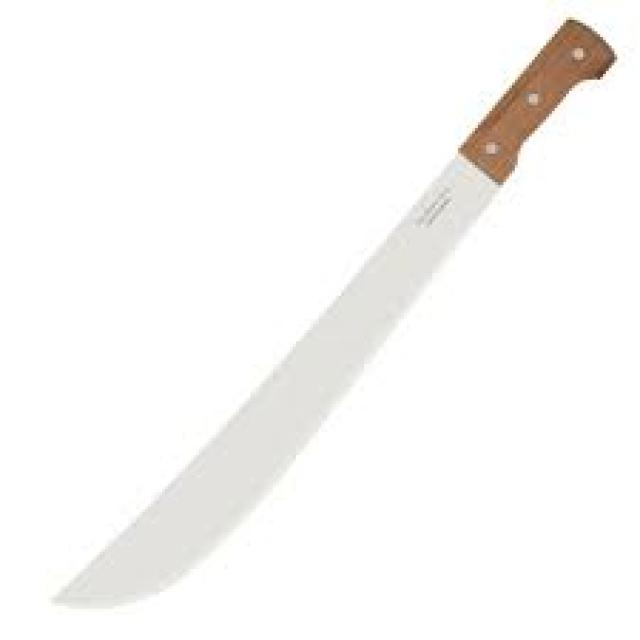Knife: (51, 23, 617, 606)
